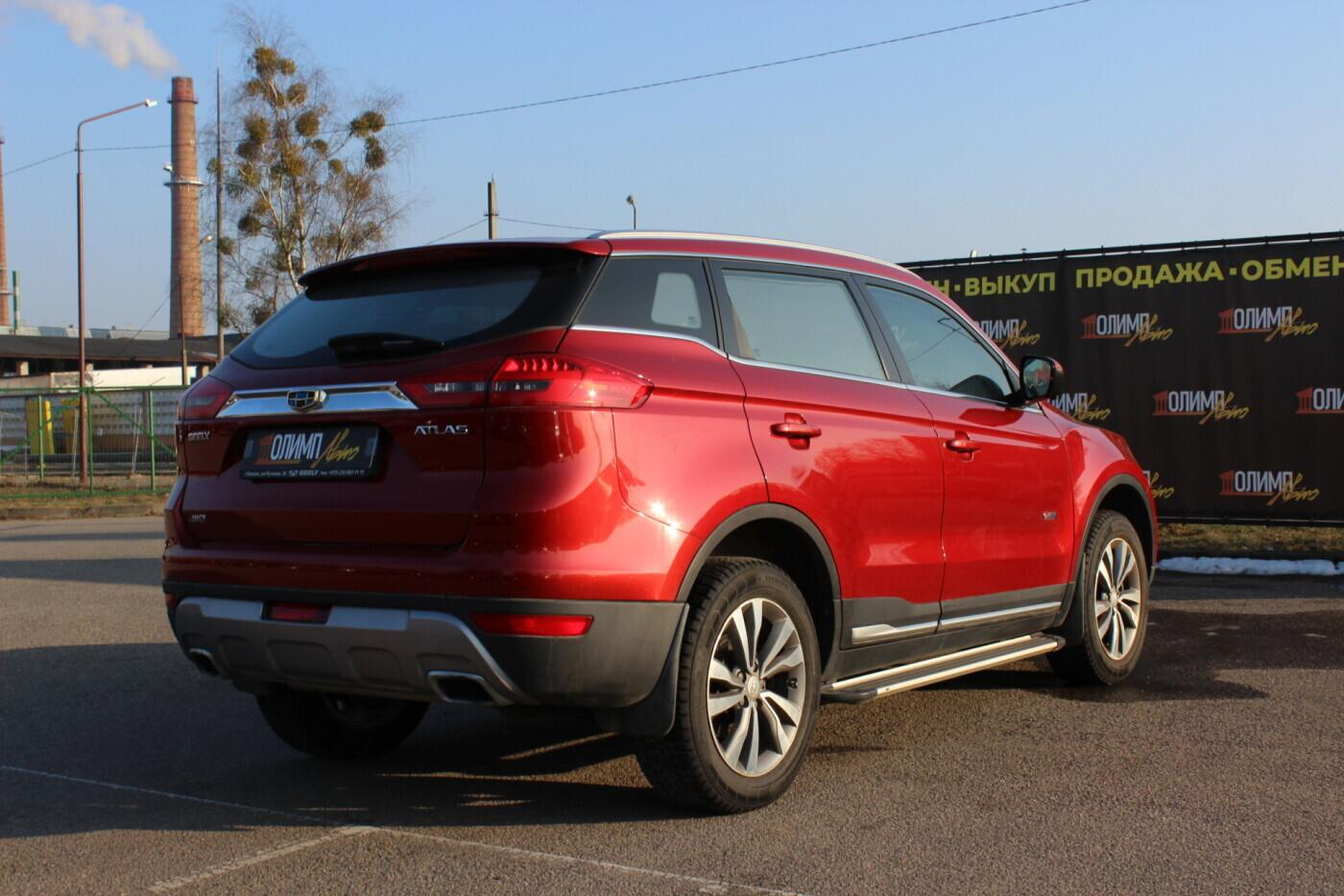Atlas_2016-2023: (148, 233, 1165, 813)
